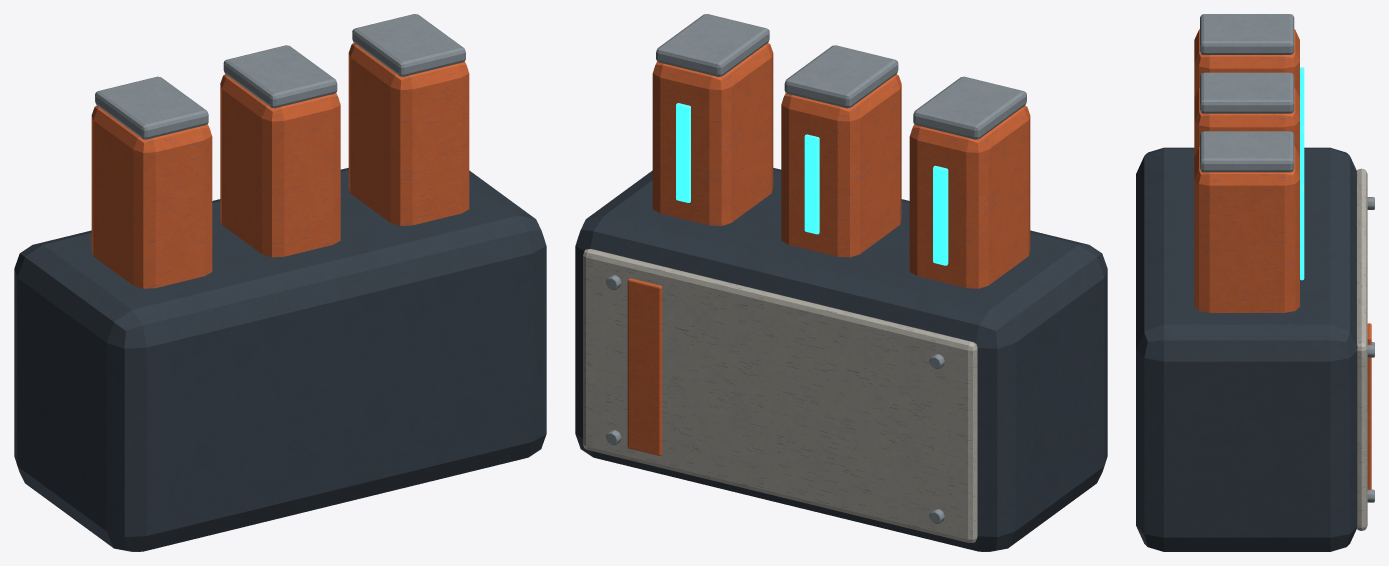
The model's file is battery-rack.glb.
3 renders of one model, left to right at view 1: azimuth 30°, elevation 25°; view 2: azimuth 150°, elevation 25°; view 3: azimuth 270°, elevation 25°, orthographic. The views are drawn at different scales.
Visible parts, largest first — view 1: Equipment frame, Target0, Target2, Target1, Cell cap.001, Cell cap, Cell cap.002; view 2: Painted panel, Equipment frame, Target0, Target2, Target1, Orange stripe, Cell cap.001, Cell cap, Cell cap.002, Charge strip.001, Charge strip, Charge strip.002 (+1 smaller); view 3: Equipment frame, Target2, Painted panel, Cell cap.002, Cell cap.001, Cell cap, Target1, Target0, Orange stripe, Charge strip.002, Assembly_Machined_alloy.
Part boxes in pixels (x1,y1,x2,y2): Equipment frame: [14, 168, 546, 551]; Target0: [91, 105, 212, 288]; Target2: [348, 43, 469, 225]; Target1: [220, 74, 340, 257]; Cell cap.001: [223, 45, 337, 108]; Cell cap: [95, 76, 208, 139]; Cell cap.002: [352, 14, 465, 76]; Painted panel: [583, 249, 977, 542]; Equipment frame: [575, 168, 1107, 551]; Target0: [909, 105, 1030, 288]; Target2: [652, 43, 773, 225]; Target1: [781, 74, 901, 257]; Orange stripe: [627, 278, 662, 455]; Cell cap.001: [784, 45, 898, 108]; Cell cap: [913, 76, 1026, 139]; Cell cap.002: [656, 14, 769, 76]; Charge strip.001: [804, 134, 819, 234]; Charge strip: [933, 165, 948, 265]; Charge strip.002: [676, 103, 690, 202]; Equipment frame: [1136, 147, 1357, 551]; Target2: [1194, 146, 1299, 312]; Painted panel: [1356, 168, 1367, 530]; Cell cap.002: [1200, 131, 1294, 172]; Cell cap.001: [1200, 72, 1294, 113]; Cell cap: [1200, 14, 1294, 54]; Target1: [1194, 88, 1299, 156]; Target0: [1194, 29, 1299, 97]; Orange stripe: [1367, 323, 1371, 489]; Charge strip.002: [1300, 184, 1304, 280]; Assembly_Machined_alloy: [1367, 197, 1374, 502].
Bounding box in the file's own units: 1.7 × 1.5 × 0.86.
5 materials, 4 textured.
